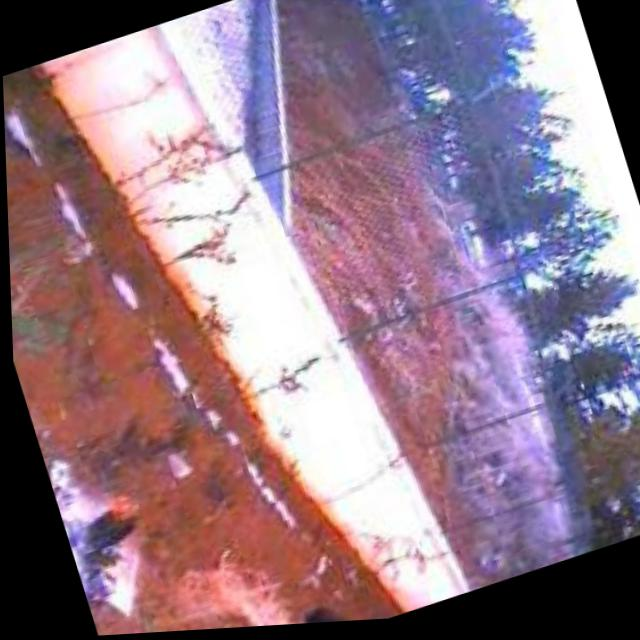Fire: (77, 485, 148, 556)
